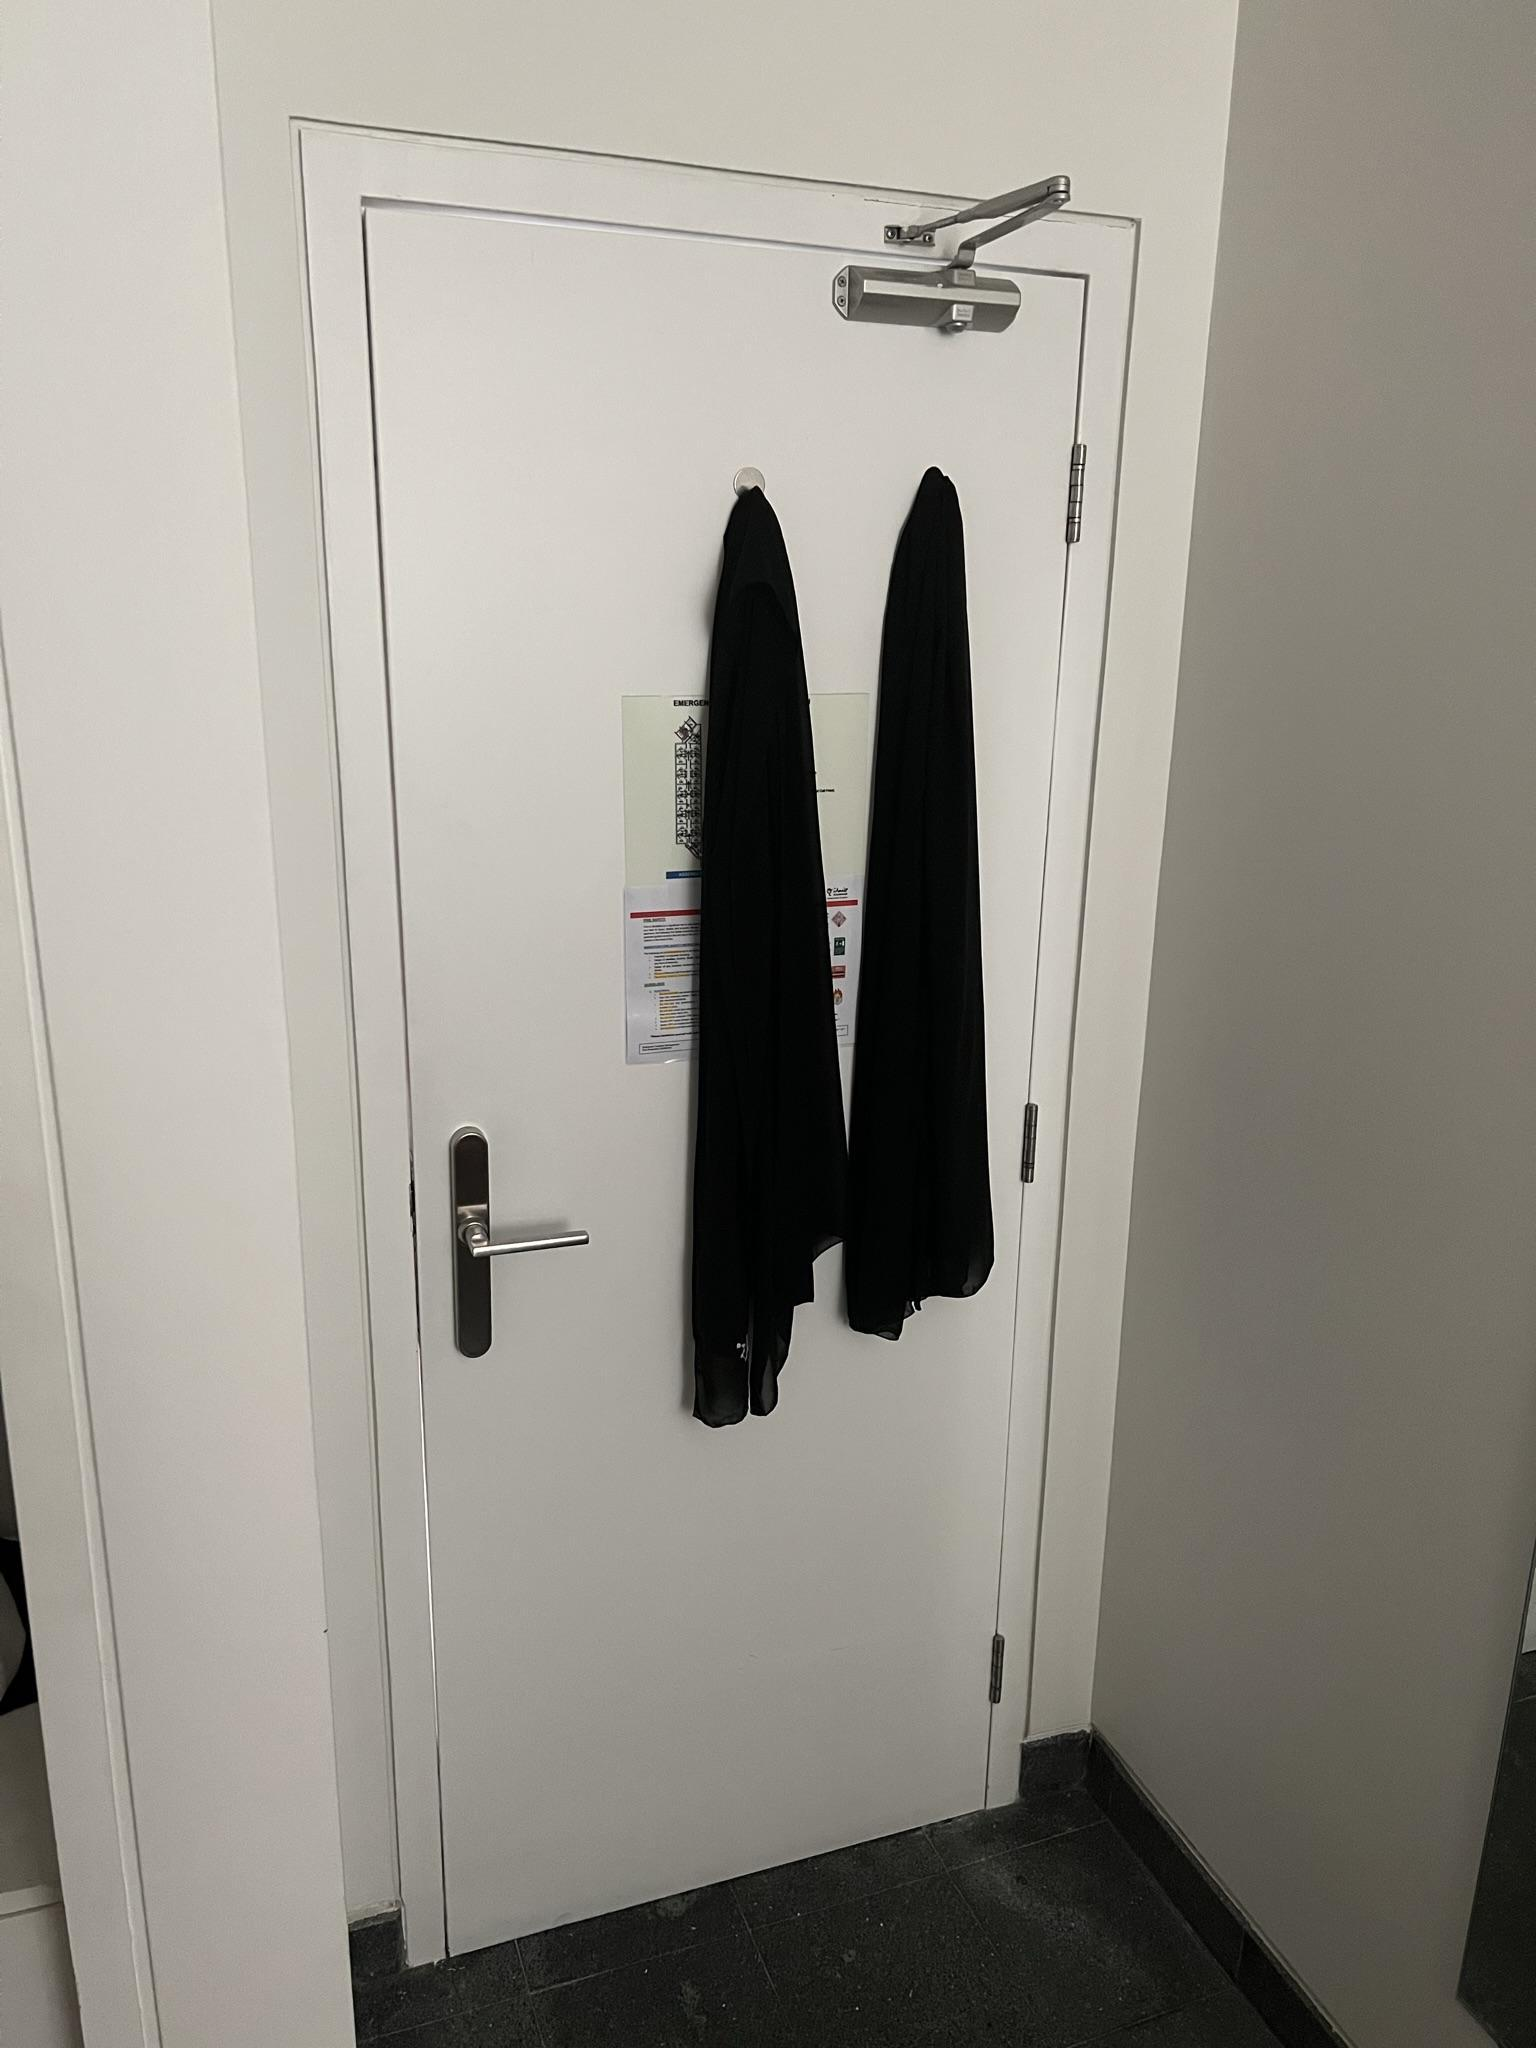door: (357, 202, 1054, 1887)
handle: (447, 1121, 594, 1364)
